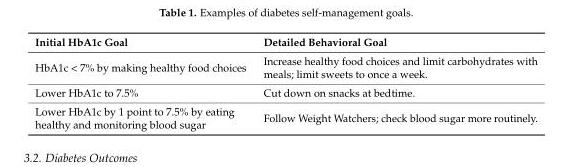table: (34, 35, 536, 130)
table column: (254, 35, 536, 130), (34, 35, 254, 130)
table column header: (34, 35, 536, 51)
table row: (34, 51, 536, 82), (34, 101, 536, 130), (34, 82, 536, 101), (34, 35, 536, 51)
